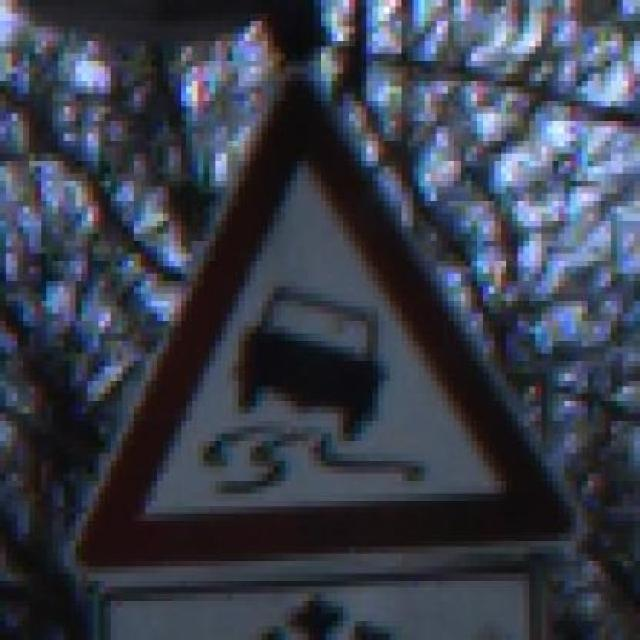Slippery Road Ahead: (64, 66, 582, 574)
